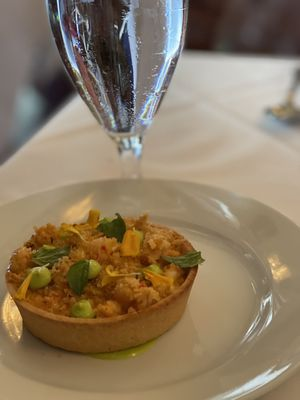curry: (0, 19, 300, 400)
sandwich: (44, 0, 189, 181)
